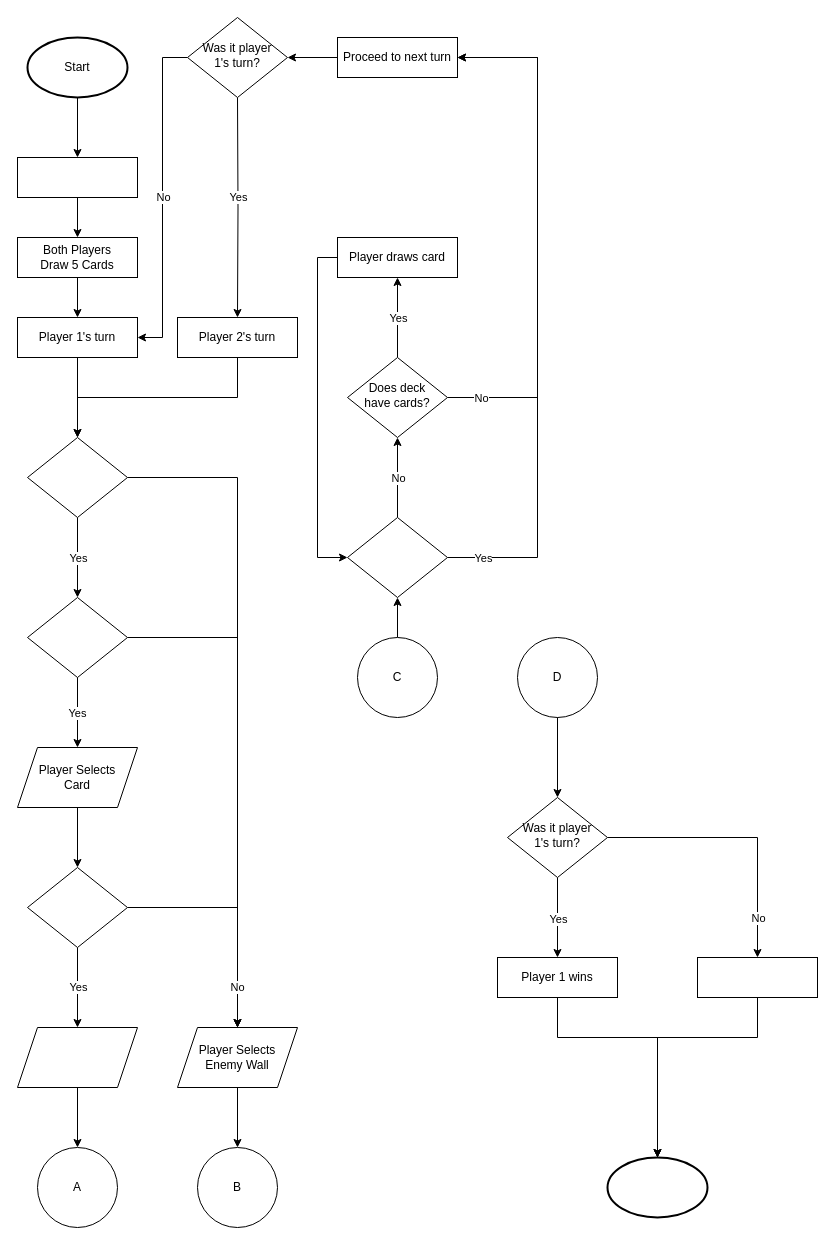
The diagram is 835 pixels wide and 1245 high, and some of its shapes have lost their labels. Each missing label, with the centre of its shape:
"Both Players Shuffle Deck" belongs at point 77,177.
"Does player have 5 cards?" belongs at point 397,557.
"Does player have cards?" belongs at point 77,477.
"End" belongs at point 657,1187.
"Is the card targeting own wall?" belongs at point 77,907.
"Player 2 wins" belongs at point 757,977.
"Player plays card?" belongs at point 77,637.
"Player Selects Own Wall" belongs at point 77,1057.
